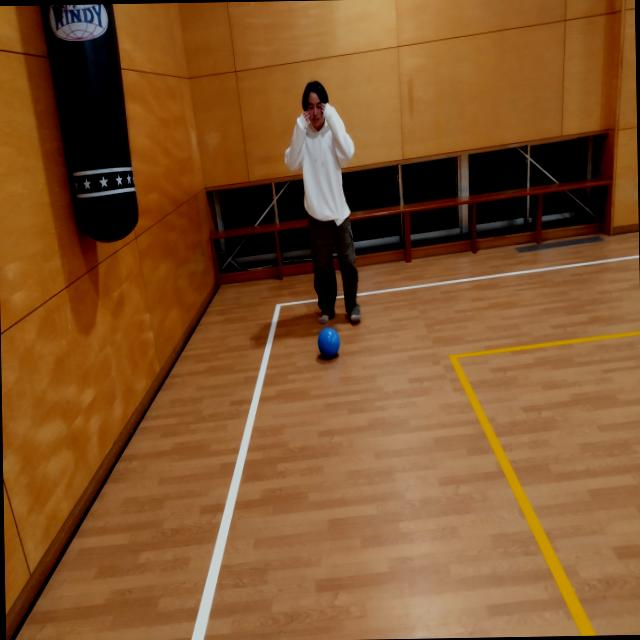blue_ball: (318, 326, 342, 362)
